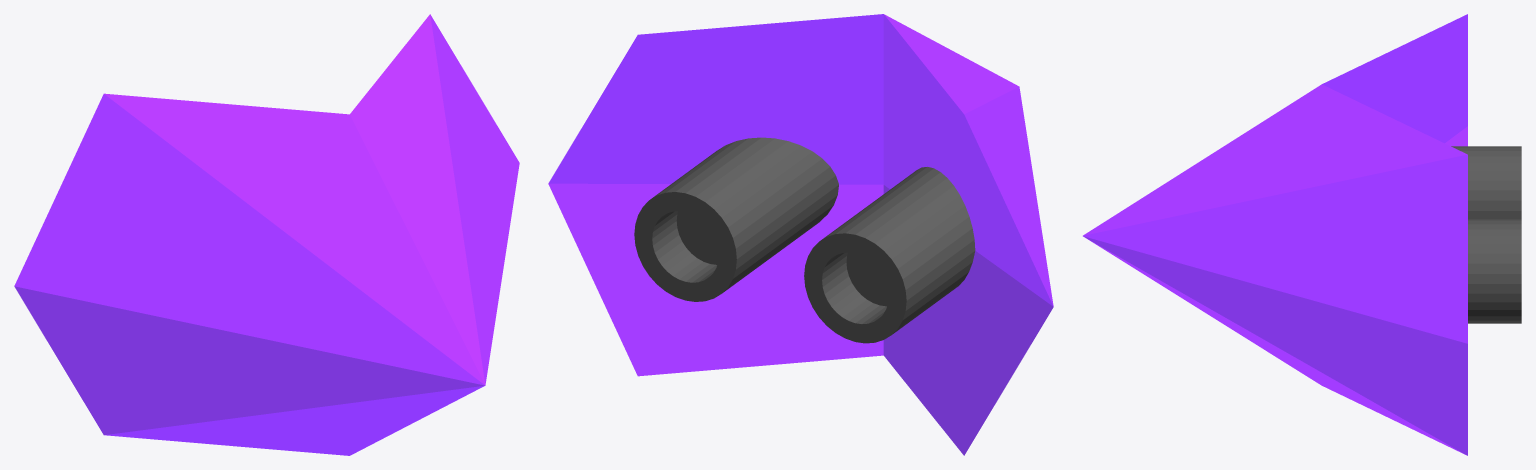
Rendered from AsteroidShip.fbx.
3 renders of one model, left to right at view 1: azimuth 30°, elevation 25°; view 2: azimuth 150°, elevation 25°; view 3: azimuth 270°, elevation 25°, orthographic. The views are drawn at different scales.
Visible parts, largest first — view 1: Cube; view 2: Cube, Cylinder.001, Cylinder; view 3: Cube, Cylinder.001, Cylinder.
Part boxes in pixels (x1=…): Cube: x1=14, y1=14, x2=519, y2=455; Cube: x1=548, y1=14, x2=1053, y2=455; Cylinder.001: x1=634, y1=137, x2=838, y2=301; Cylinder: x1=804, y1=167, x2=975, y2=343; Cube: x1=1083, y1=14, x2=1467, y2=455; Cylinder.001: x1=1468, y1=219, x2=1521, y2=323; Cylinder: x1=1451, y1=146, x2=1521, y2=219.
Size of the model in its own units: 310 by 200 by 264.
